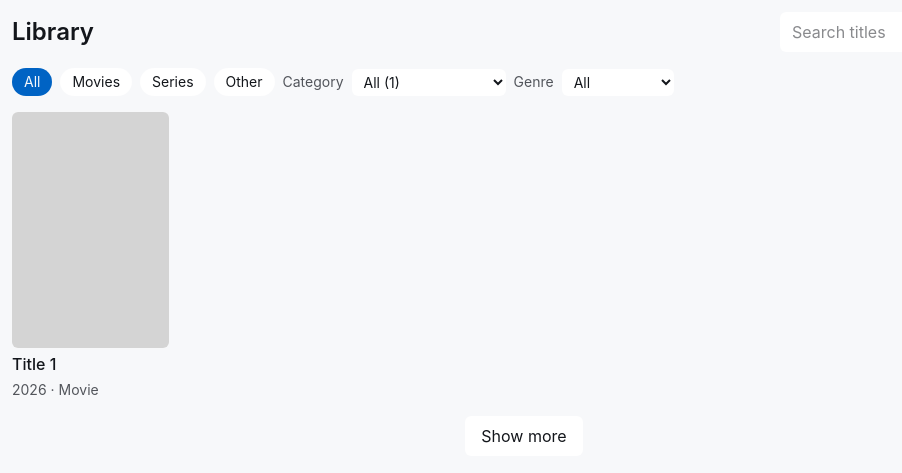
Test case: lists the library's torrents with their posters and loads more
Expected: the text "Title 1" is shown, [12, 354, 56, 374]
Click the button "Show more".
click(524, 436)  # box [465, 416, 583, 456]
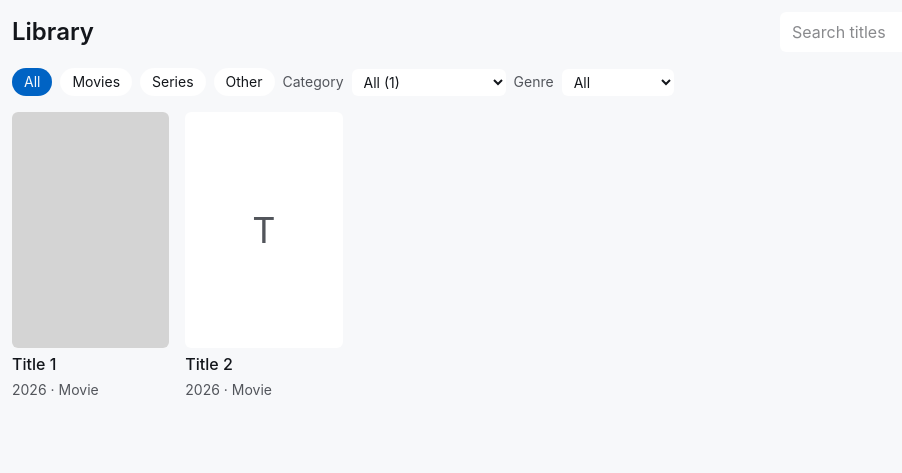
Result: the text "Title 2" is shown at [185, 354, 233, 374]
